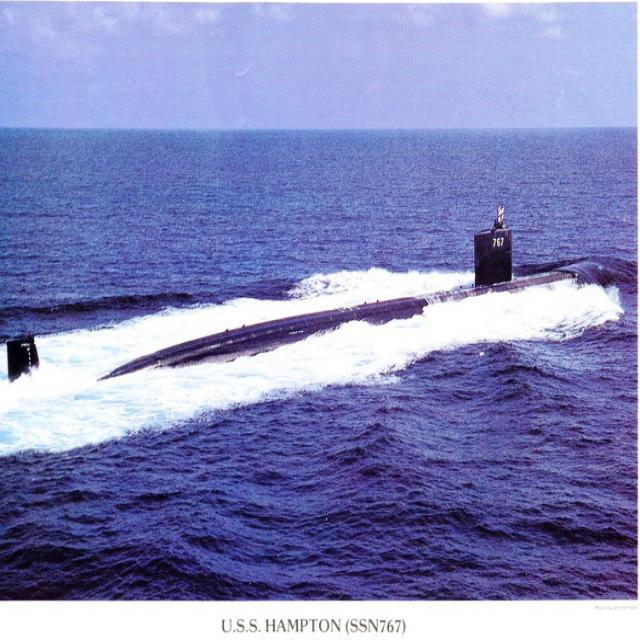submarine: (10, 209, 572, 419)
